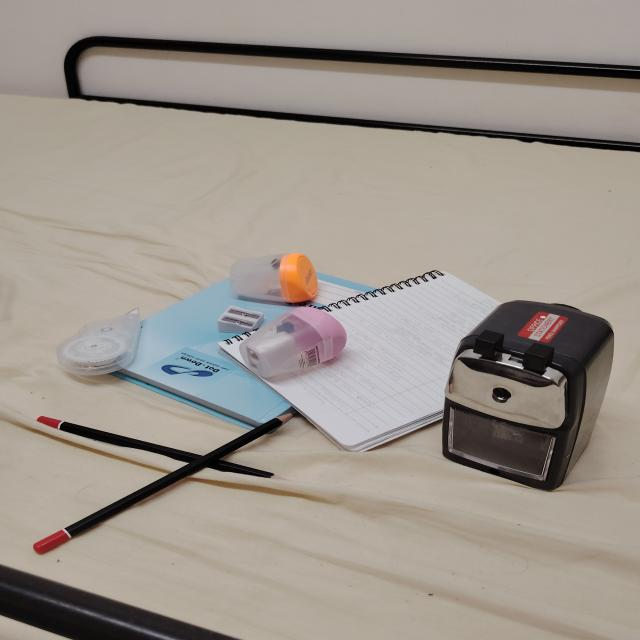pencil: (33, 413, 295, 554), (37, 416, 197, 462), (209, 461, 274, 477)
sharpener: (442, 300, 614, 490), (239, 307, 347, 378), (230, 253, 318, 303), (217, 306, 263, 333)
